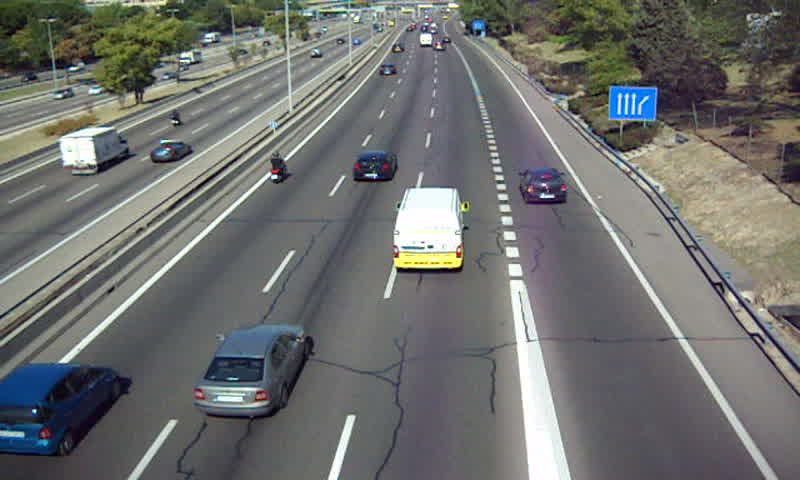car: (1, 364, 119, 456), (193, 325, 305, 417), (517, 168, 569, 206), (353, 152, 397, 181), (378, 62, 398, 78)
motorcycle: (268, 151, 288, 184)
van: (394, 188, 464, 269)
